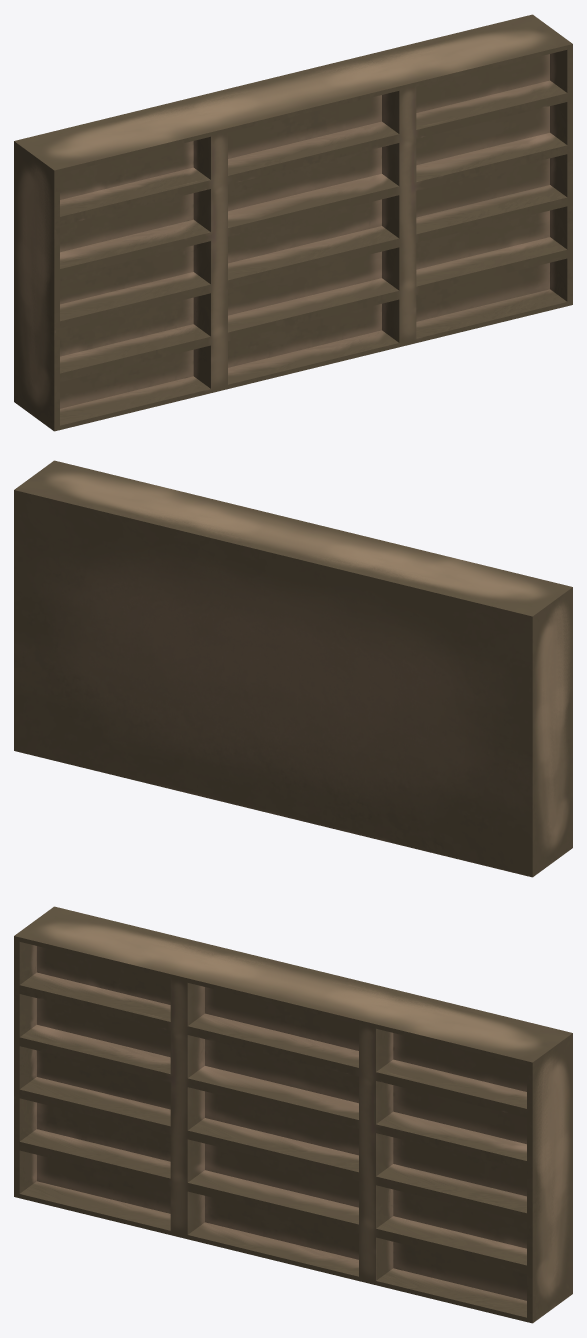
Rendered from Shelf.gltf.
The picture shows the model from 3 angles, top to bottom: view 1: azimuth 30°, elevation 25°; view 2: azimuth 150°, elevation 25°; view 3: azimuth 330°, elevation 25°; orthographic projection.
Visible parts, largest first — view 1: Shelf; view 2: Shelf; view 3: Shelf.
Part boxes in pixels (x1,y1,x2,y2): Shelf: (14, 14, 572, 431); Shelf: (14, 460, 572, 877); Shelf: (14, 906, 572, 1323).
Size of the model in its own units: 5.2 by 2.5 by 0.7.
1 material, 1 textured.
